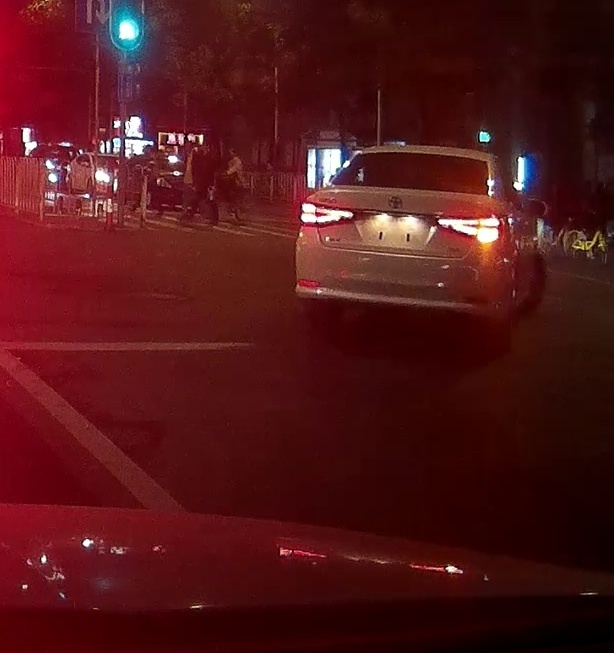L_light: (299, 202, 354, 227)
R_light: (437, 216, 500, 244)
T_light: (404, 151, 435, 159)
night-right: (294, 144, 506, 351)
